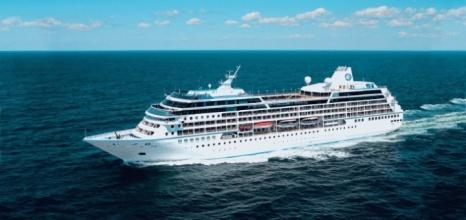youlun: (80, 57, 408, 169)
